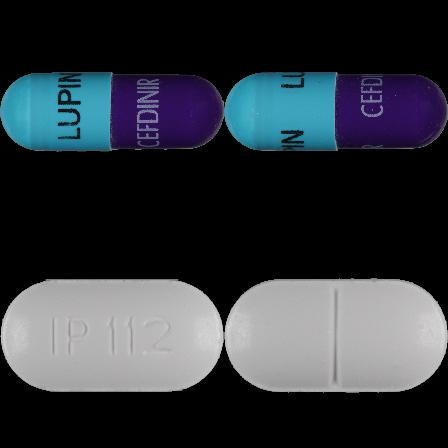67296-0469: (0, 0, 224, 224)
